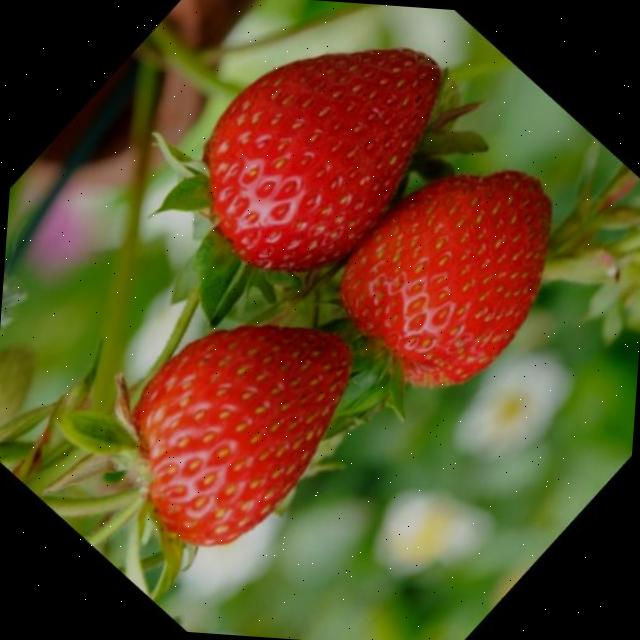strawberry: (202, 48, 440, 269), (132, 324, 350, 545), (339, 170, 550, 386)
